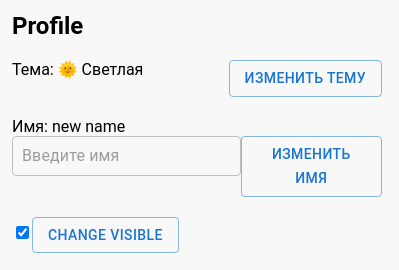
Test: App › toggle theme
Expected: the text "Тема: 🌞 Светлая" is shown, [12, 60, 143, 79]
Click the button "Изменить тему". click: (305,78)
box: [229, 60, 382, 96]
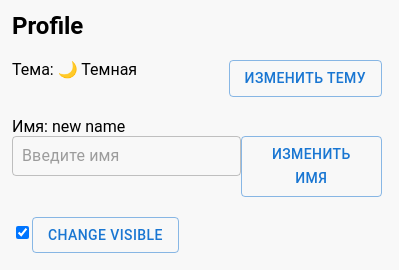
Expected: the text "Тема: 🌙 Темная" is shown, [12, 60, 137, 79]
